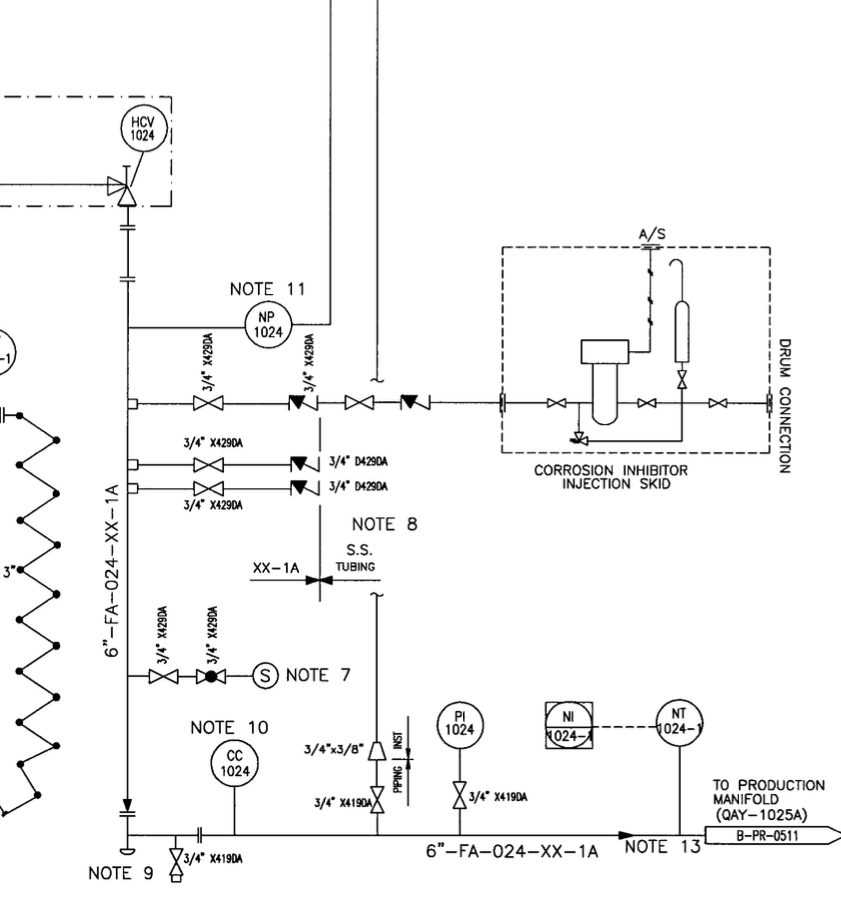Instrument: (650, 696, 710, 749), (207, 737, 266, 788), (432, 698, 487, 752), (117, 102, 170, 155), (242, 297, 293, 349)
Instrument-square: (538, 699, 600, 752)
